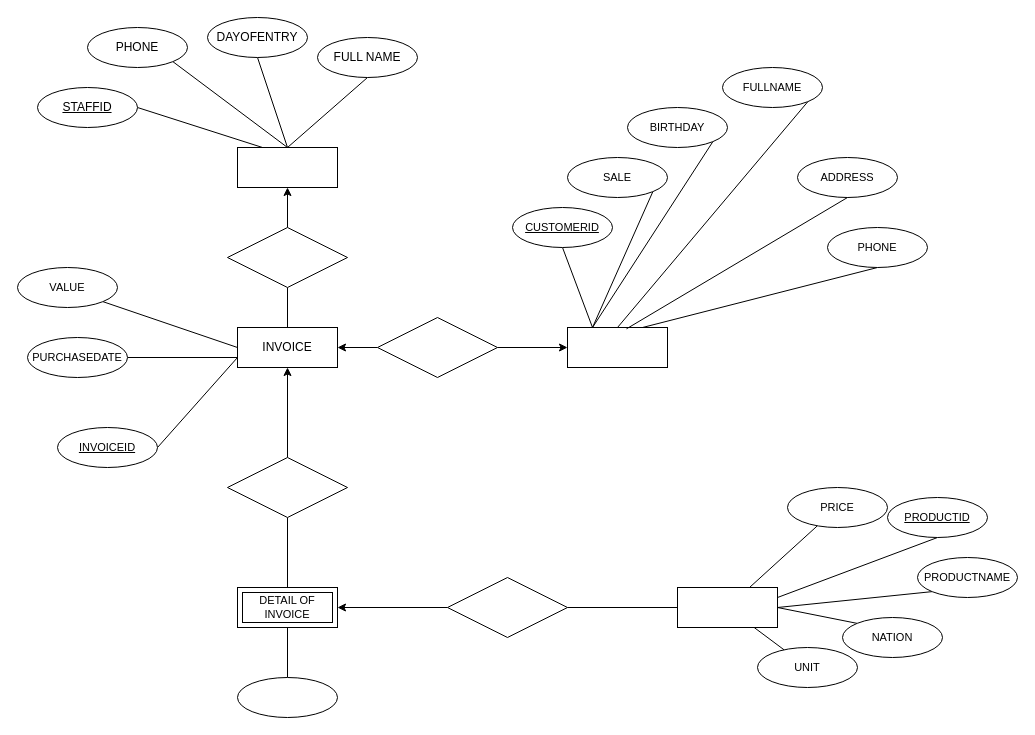
Some shapes in this 1035 by 735 pixel diagram are drawn without their labels. Here are the shapes that lost their labels. From the top down, the centre of each, then its label:
At (x=287, y=167): "STAFF".
At (x=287, y=257): "CREATE".
At (x=437, y=347): "GET".
At (x=617, y=347): "CUSTOMER".
At (x=287, y=487): "EXPLAIN".
At (x=507, y=607): "Relationship".
At (x=727, y=607): "PRODUCTS".
At (x=287, y=697): "QUANTITY".
